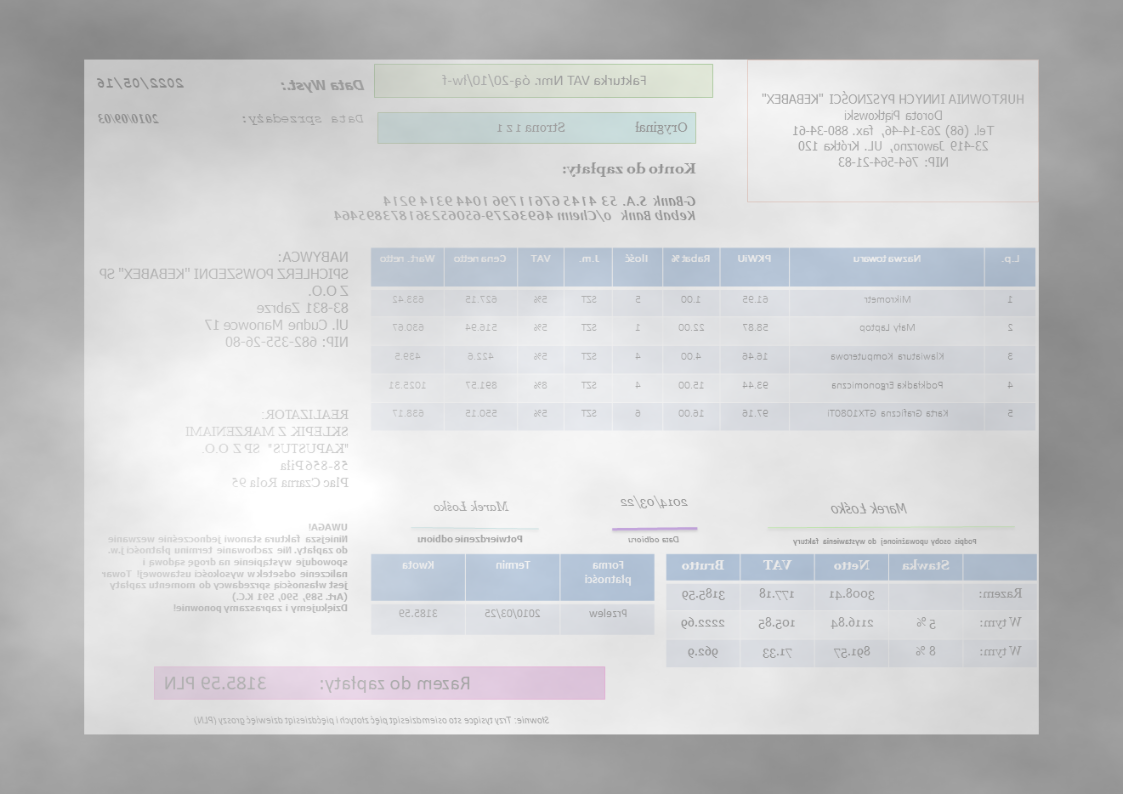Table: (370, 247, 1037, 432), (664, 553, 1038, 669), (370, 553, 656, 636)
TextBox: (97, 249, 352, 350), (100, 519, 351, 615), (759, 90, 1026, 172), (182, 406, 351, 490), (332, 193, 699, 225), (162, 672, 473, 695), (191, 712, 552, 728), (441, 71, 649, 89), (495, 119, 689, 135), (559, 158, 700, 179), (790, 534, 981, 548), (241, 111, 366, 126), (96, 74, 188, 92), (414, 532, 525, 546), (278, 76, 367, 93), (829, 499, 909, 516), (617, 494, 691, 512), (432, 499, 511, 515), (98, 111, 162, 125), (627, 532, 683, 546)
